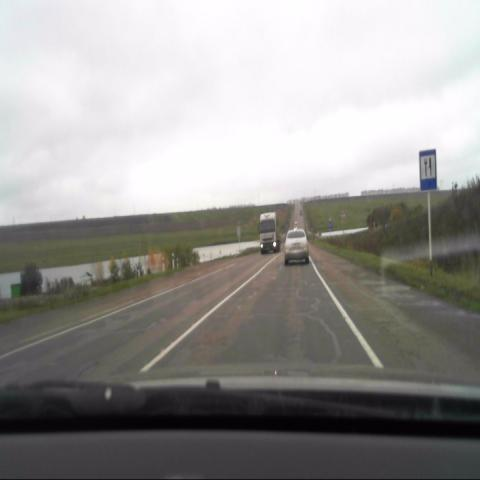7_7: (420, 151, 436, 192)
